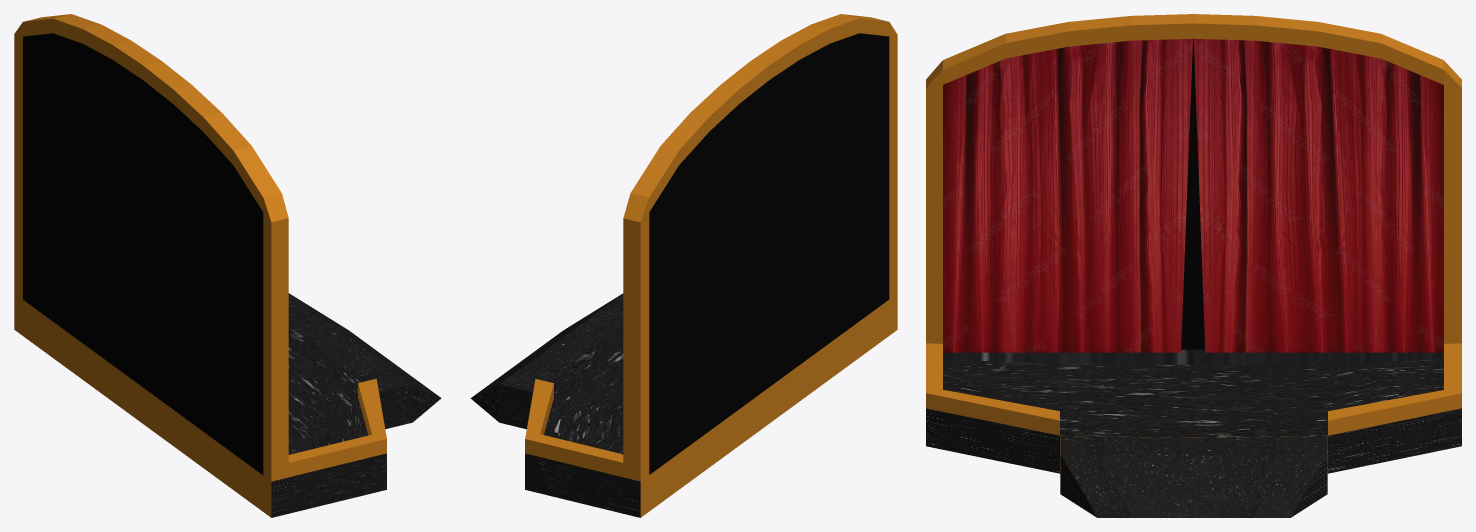
The model's file is stage.fbx.
3 views of the same model, side by side, from view 1: azimuth 30°, elevation 25°; view 2: azimuth 150°, elevation 25°; view 3: azimuth 270°, elevation 25° (orthographic). The views are drawn at different scales.
Parts seen in each view (by area): view 1: Stage; view 2: Stage; view 3: Stage.
Part boxes in pixels (x1,y1,x2,y2): Stage: (14, 14, 441, 517); Stage: (470, 14, 897, 517); Stage: (926, 14, 1461, 517).
Size of the model in its own units: 1380 by 1884 by 2436.
